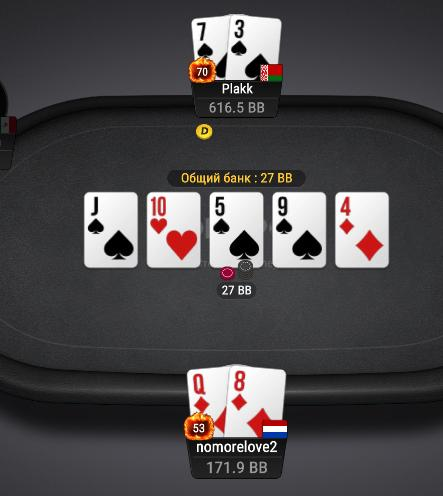10h: (147, 193, 199, 269)
3s: (229, 13, 281, 81)
4d: (336, 193, 388, 267)
5s: (211, 191, 263, 266)
7s: (191, 17, 228, 81)
8d: (227, 365, 285, 439)
9s: (272, 193, 327, 266)
Js: (85, 192, 137, 268)
Qd: (187, 367, 227, 437)
